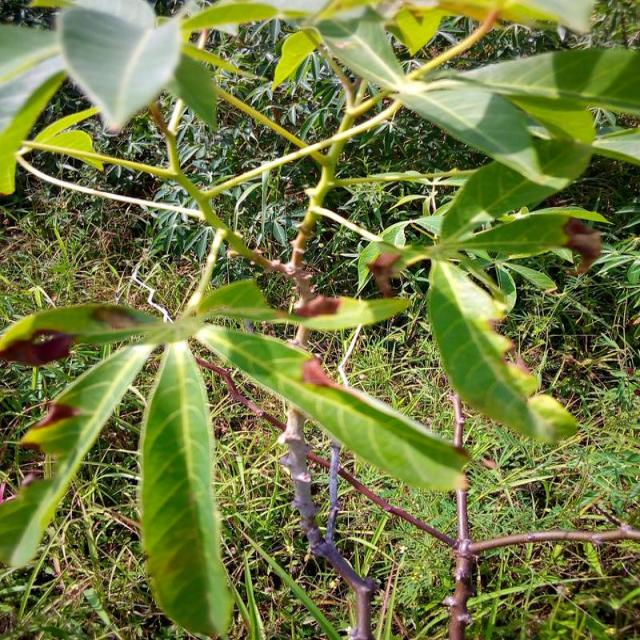cassava leaf: (193, 322, 470, 493), (138, 338, 234, 637), (427, 256, 578, 445), (55, 0, 183, 137)
